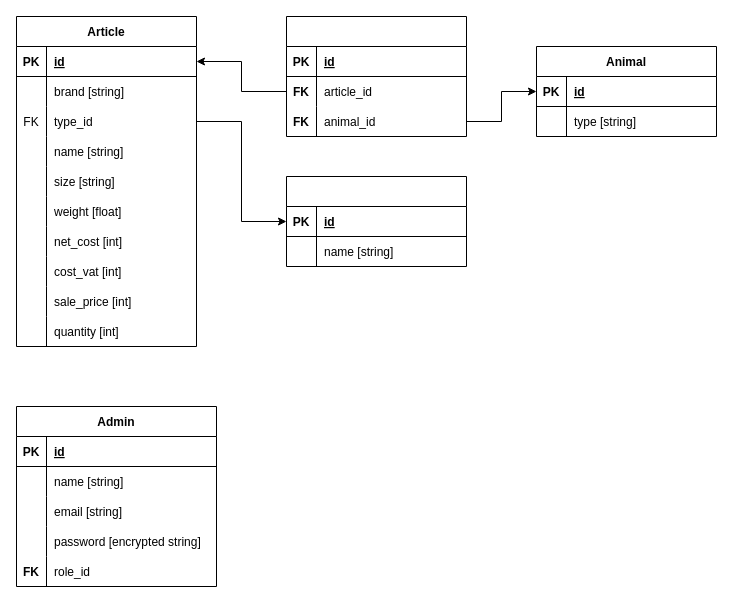
Some shapes in this 733 by 603 pixel diagram are drawn without their labels. The shapes that lost their labels are listed below. From the top down, each one's box as (x1, y1, x2, y2) in pixels, then its label:
(286, 16, 466, 136): ArticleAnimal
(286, 176, 466, 266): ArticleType
